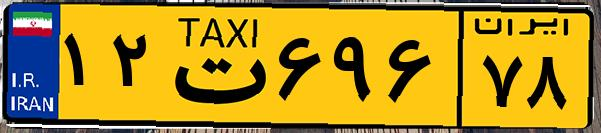1: (57, 26, 110, 100)
2: (110, 28, 158, 98)
6: (270, 28, 330, 110), (385, 28, 445, 110)
7: (475, 38, 525, 113)
8: (525, 38, 570, 115)
9: (330, 28, 385, 110)
ت: (158, 12, 270, 120)
